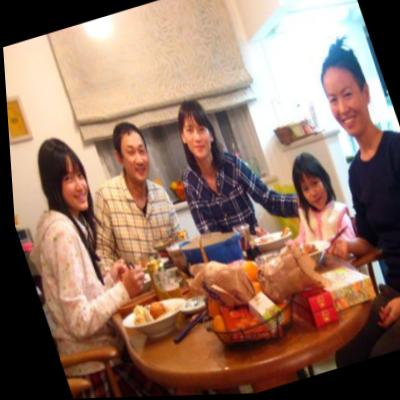happy: (318, 70, 372, 141), (47, 150, 92, 215), (291, 164, 328, 215), (117, 135, 152, 185)
netural: (178, 111, 214, 162)
